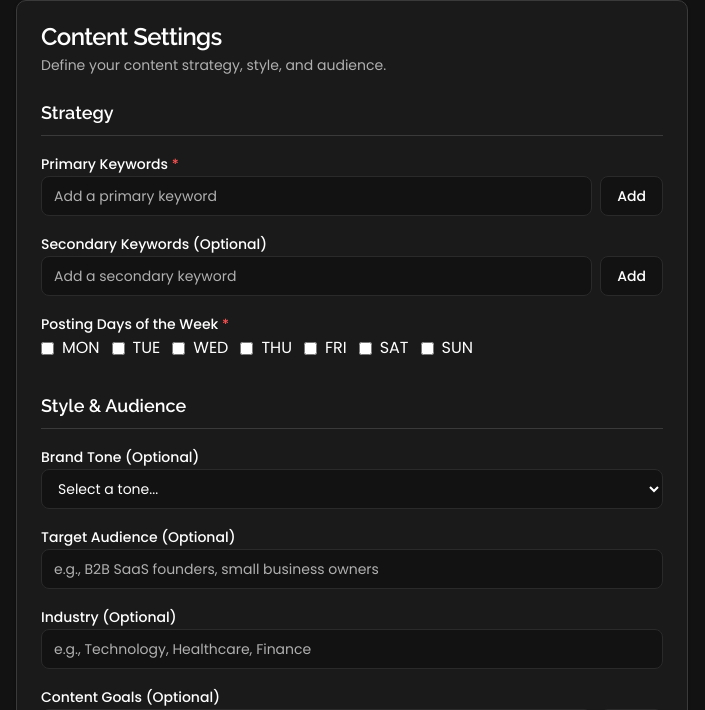
it: ContentSettingsForm › can add and remove primary keyword via Enter and remove button
In the field with placeholder "Add a primary keyword": (317, 196) [41, 176, 592, 216], type "focus-key"
Then press Enter
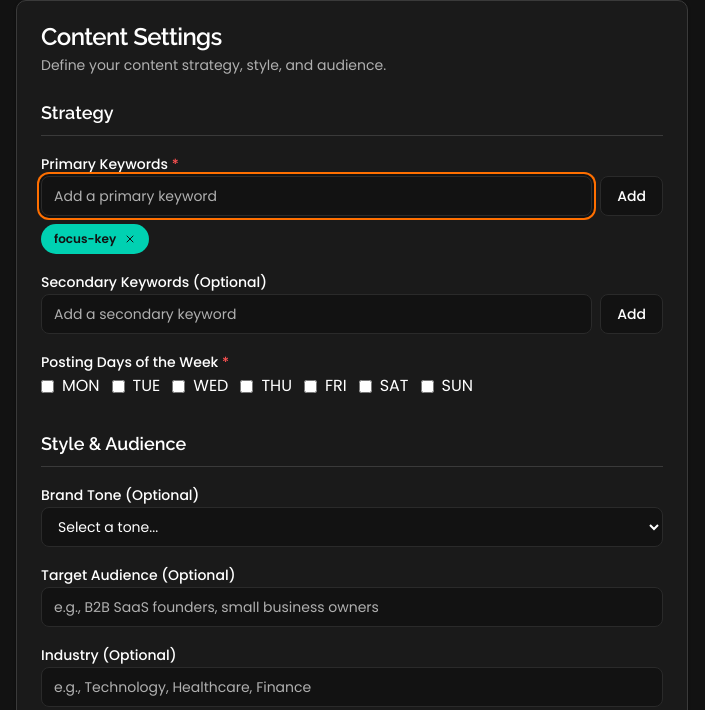
Expected: the text "focus-key" is shown, [41, 224, 149, 254]
Expected: the 2nd button is shown
Click the 2nd button: click(130, 239) [124, 233, 136, 245]
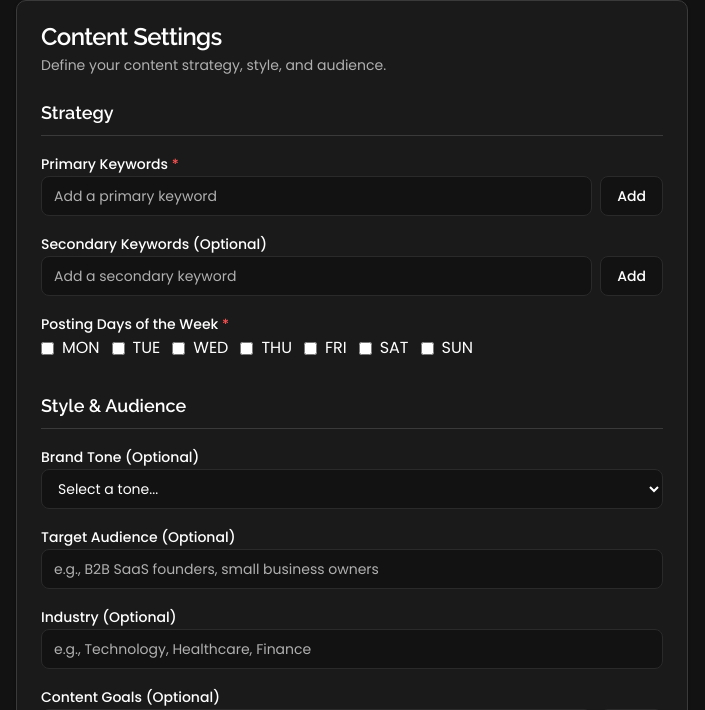
Expected: the text "focus-key" is gone
